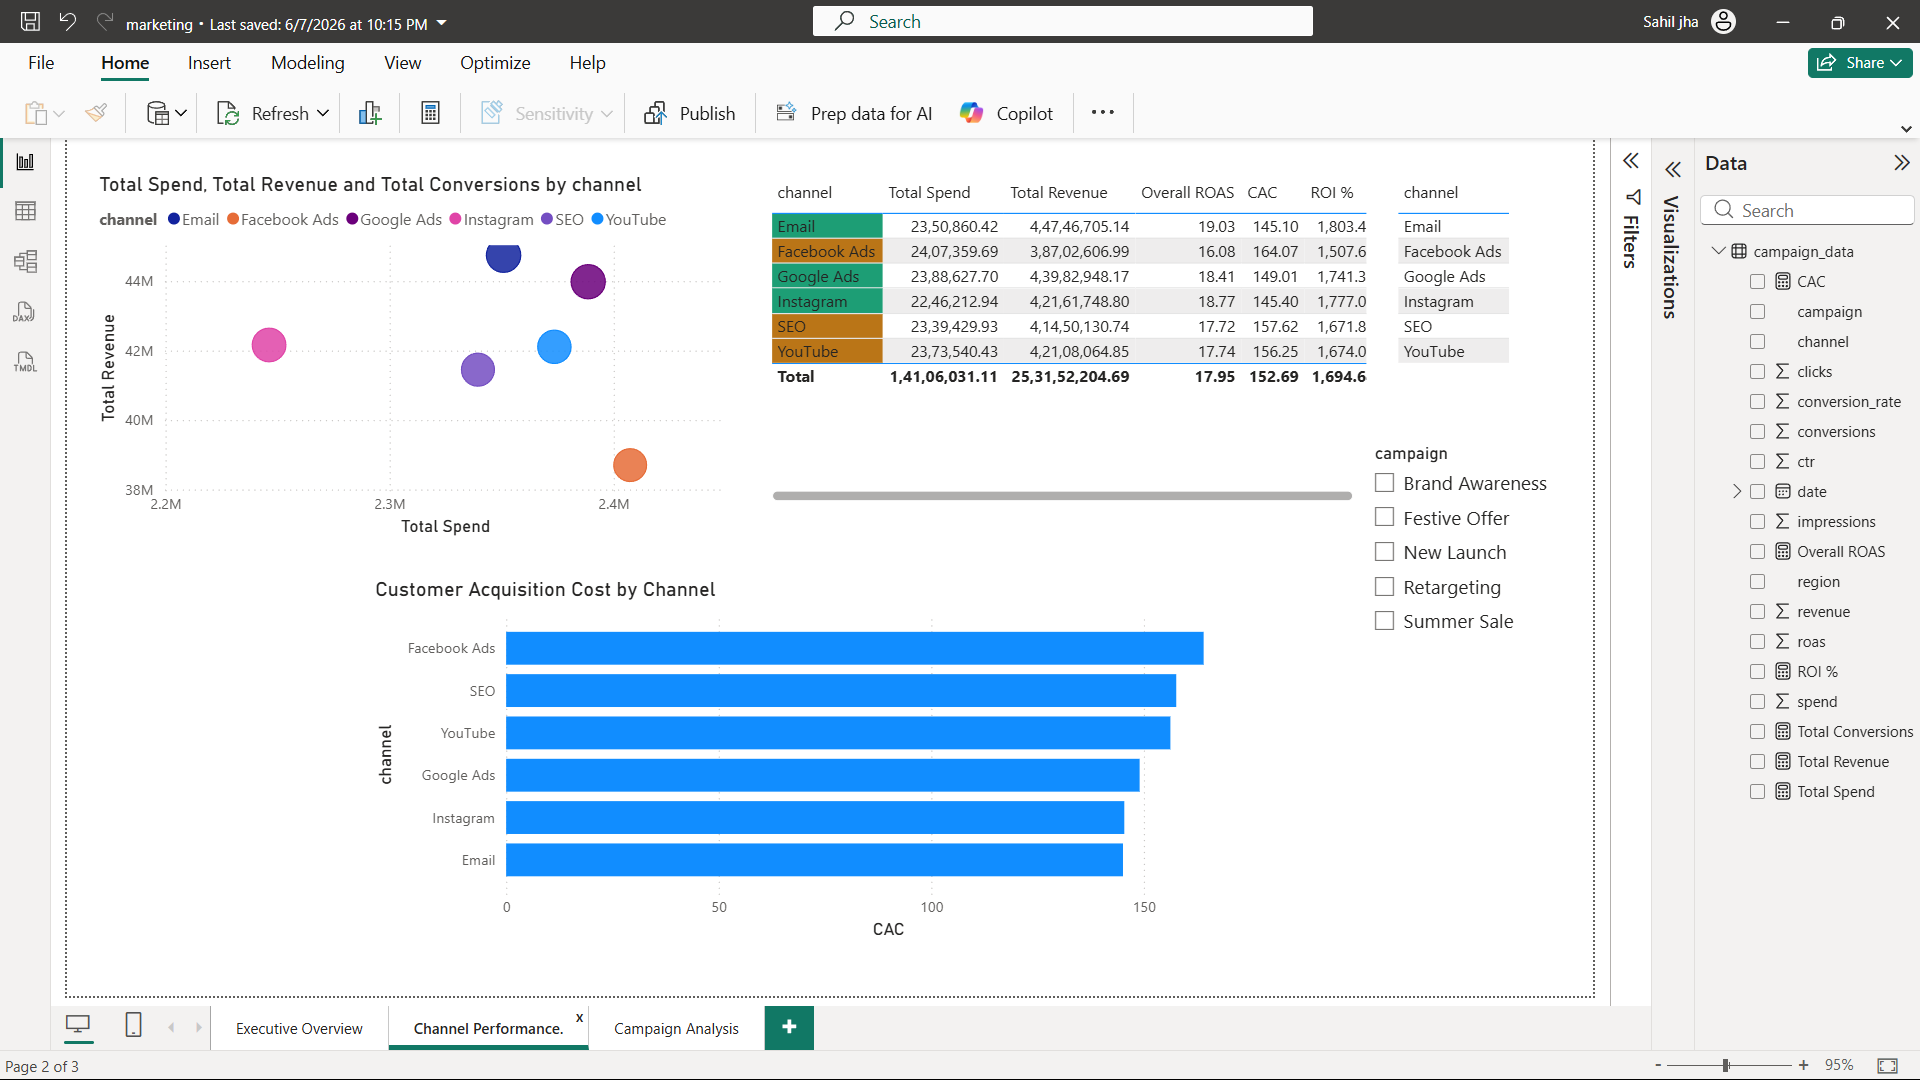

This screenshot's page, from the dashboard's own definition file:
{"tool":"powerbi","page":{"name":"Channel Performance.","canvas":[1280,720],"ordinal":1},"visuals":[{"type":"tableEx","fields":{"Values":["campaign_data.channel","campaign_data.Total Spend","campaign_data.Total Revenue","campaign_data.Overall ROAS","campaign_data.CAC","campaign_data.ROI %"]},"box":[584.7,29.1,509.7,280.1],"z":0},{"type":"barChart","title":"Customer Acquisition Cost by Channel","fields":{"Y":["campaign_data.CAC"],"Category":["campaign_data.channel"]},"box":[253.7,368,771.6,309.3],"z":1},{"type":"scatterChart","fields":{"X":["campaign_data.Total Spend"],"Y":["campaign_data.Total Revenue"],"Series":["campaign_data.channel"],"Size":["campaign_data.Total Conversions"]},"box":[21.9,28.7,549.6,310.2],"z":2},{"type":"slicer","fields":{"Values":["campaign_data.campaign"]},"box":[1083.7,251,182.1,368.9],"z":3},{"type":"tableEx","fields":{"Values":["campaign_data.channel"]},"box":[1109.7,29.1,156.1,221.9],"z":5}]}

Visuals, with their boxes on the page's 1280x720 design canvas (x1, y1, x2, y2). These are canvas units, not pixel positions in the 1920x1080 screenshot, which may show the page scaled, cropped or inside an application window:
tableEx - campaign_data.channel x campaign_data.Total Spend: (585, 29, 1094, 309)
"Customer Acquisition Cost by Channel" barChart: (254, 368, 1025, 677)
scatterChart - campaign_data.Total Spend x campaign_data.Total Revenue: (22, 29, 572, 339)
slicer - campaign_data.campaign: (1084, 251, 1266, 620)
tableEx - campaign_data.channel: (1110, 29, 1266, 251)
